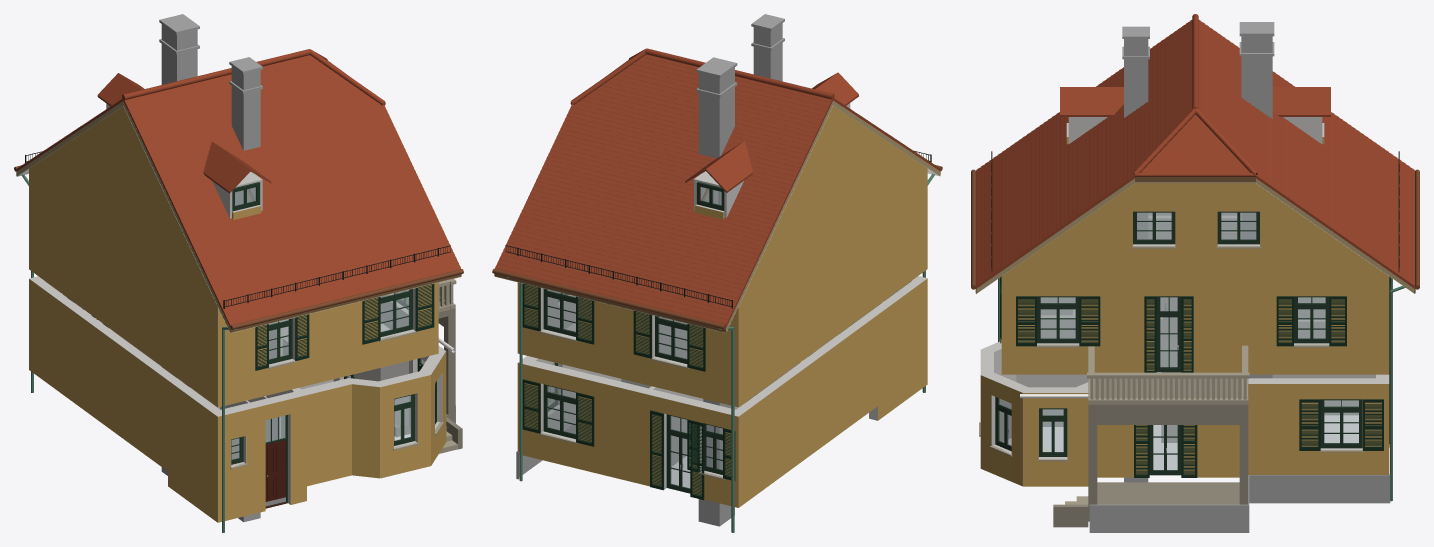
File: bestand.glb
The picture shows the model from 3 angles, left to right: view 1: azimuth 30°, elevation 25°; view 2: azimuth 150°, elevation 25°; view 3: azimuth 270°, elevation 25°; orthographic projection. The views are drawn at different scales.
Parts seen in each view (by area): view 1: bestand; view 2: bestand; view 3: bestand.
Part boxes in pixels (left/top/right/bottom): bestand: left=14, top=14, right=463, bottom=532; bestand: left=492, top=14, right=942, bottom=532; bestand: left=971, top=14, right=1419, bottom=532.
Size of the model in its own units: 9.45 by 14.51 by 12.74.
